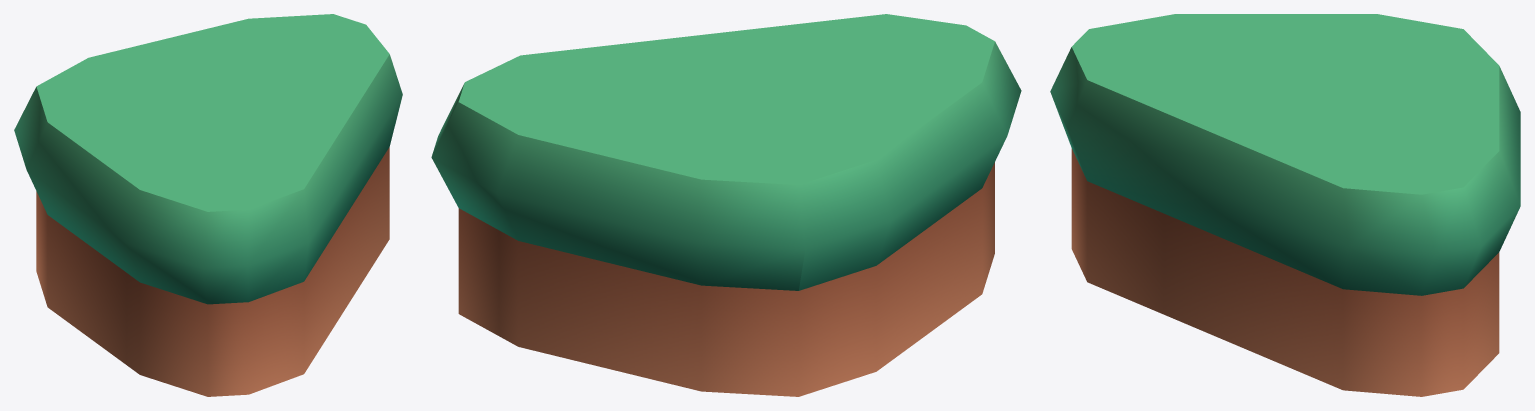
File: block-grass-corner-low.glb
3 views of the same model, side by side, from view 1: azimuth 30°, elevation 25°; view 2: azimuth 150°, elevation 25°; view 3: azimuth 270°, elevation 25° (orthographic). The views are drawn at different scales.
Parts seen in each view (by area): view 1: block-grass-corner-low; view 2: block-grass-corner-low; view 3: block-grass-corner-low.
Boxes of the visible parts, left/top/right/bottom form: block-grass-corner-low: left=14, top=14, right=402, bottom=396; block-grass-corner-low: left=431, top=14, right=1021, bottom=396; block-grass-corner-low: left=1050, top=14, right=1520, bottom=396.
Bounding box in the file's own units: 1.05 × 0.5 × 1.05.
Materials: 1 (1 with a texture image).
